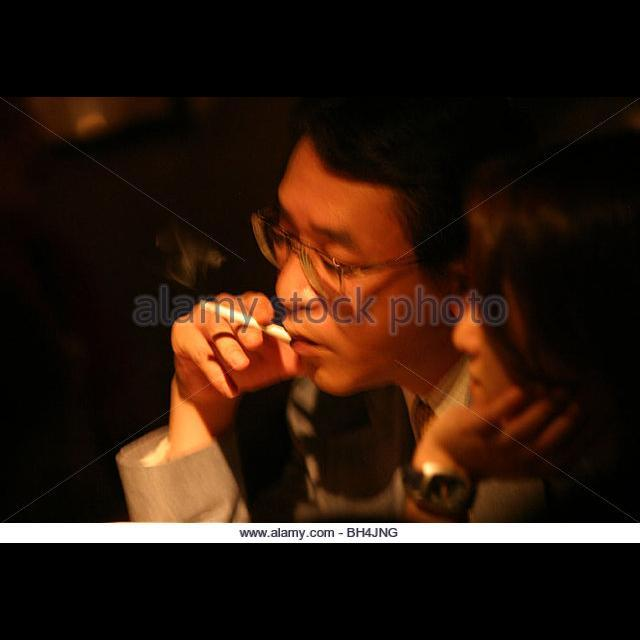rokok: (198, 300, 298, 344)
